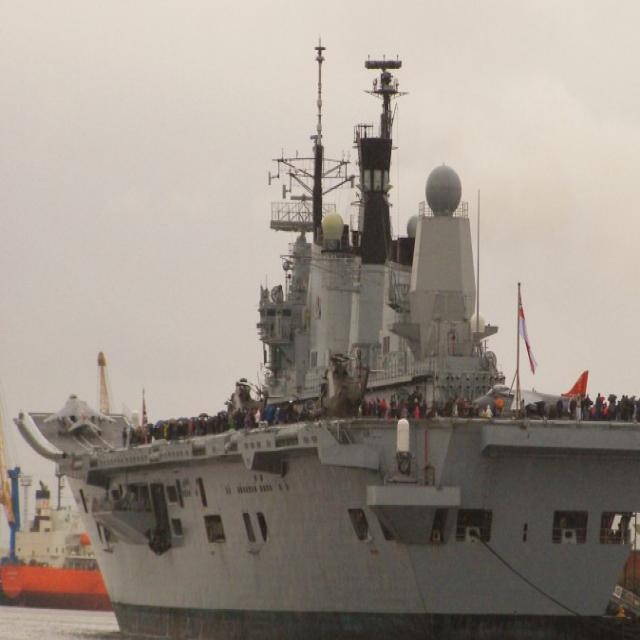Portanaves: (18, 13, 640, 640)
